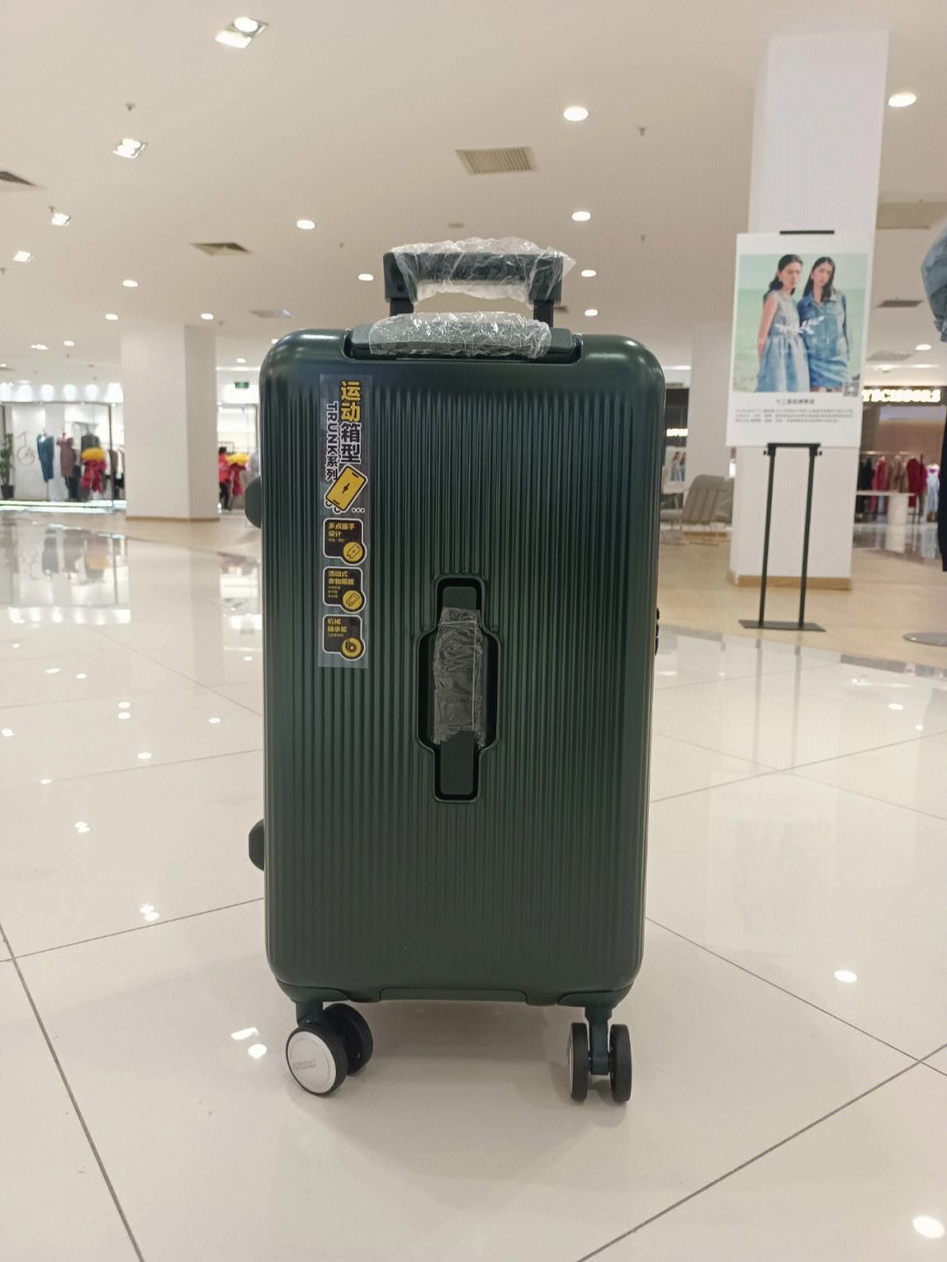box: (258, 329, 666, 1006)
wheel: (285, 1003, 374, 1098), (565, 1023, 631, 1104)
